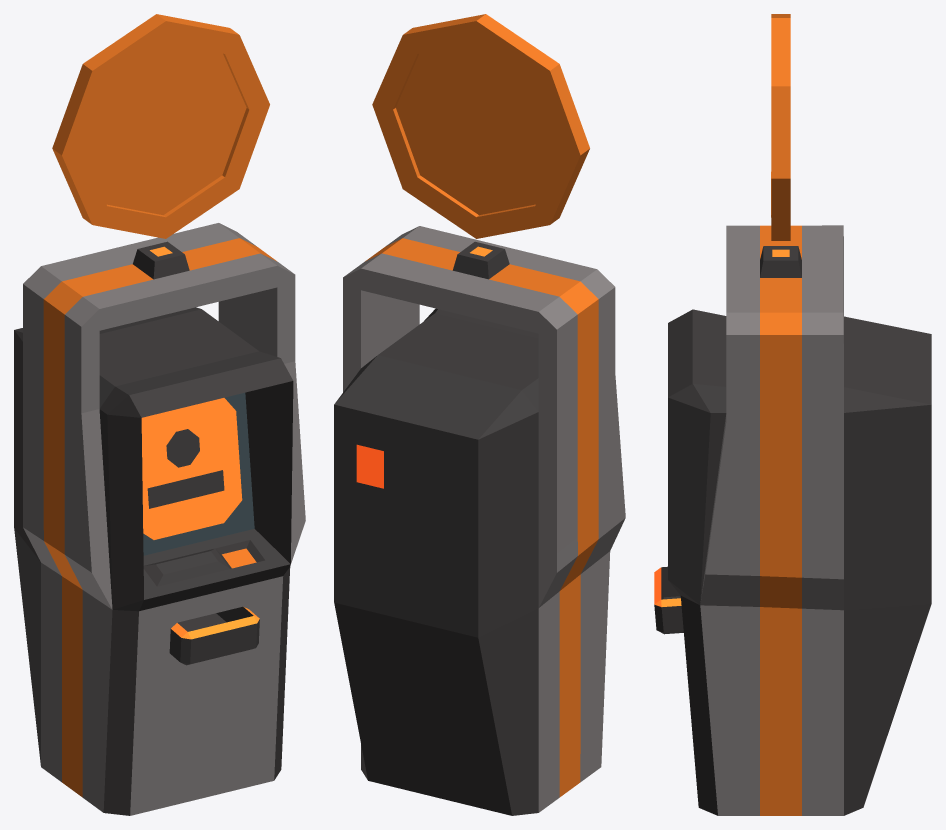
Rendered from scifi_scifi-atm-machine.fbx.
3 views of the same model, side by side, from view 1: azimuth 30°, elevation 25°; view 2: azimuth 150°, elevation 25°; view 3: azimuth 270°, elevation 25° (orthographic).
Parts seen in each view (by area): view 1: scifi_scifi_atm_machine; view 2: scifi_scifi_atm_machine; view 3: scifi_scifi_atm_machine.
Part boxes in pixels (x1=…): scifi_scifi_atm_machine: x1=14, y1=14, x2=305, y2=815; scifi_scifi_atm_machine: x1=334, y1=14, x2=625, y2=815; scifi_scifi_atm_machine: x1=654, y1=14, x2=931, y2=815.
Size of the model in its own units: 59.65 by 200 by 66.65.
